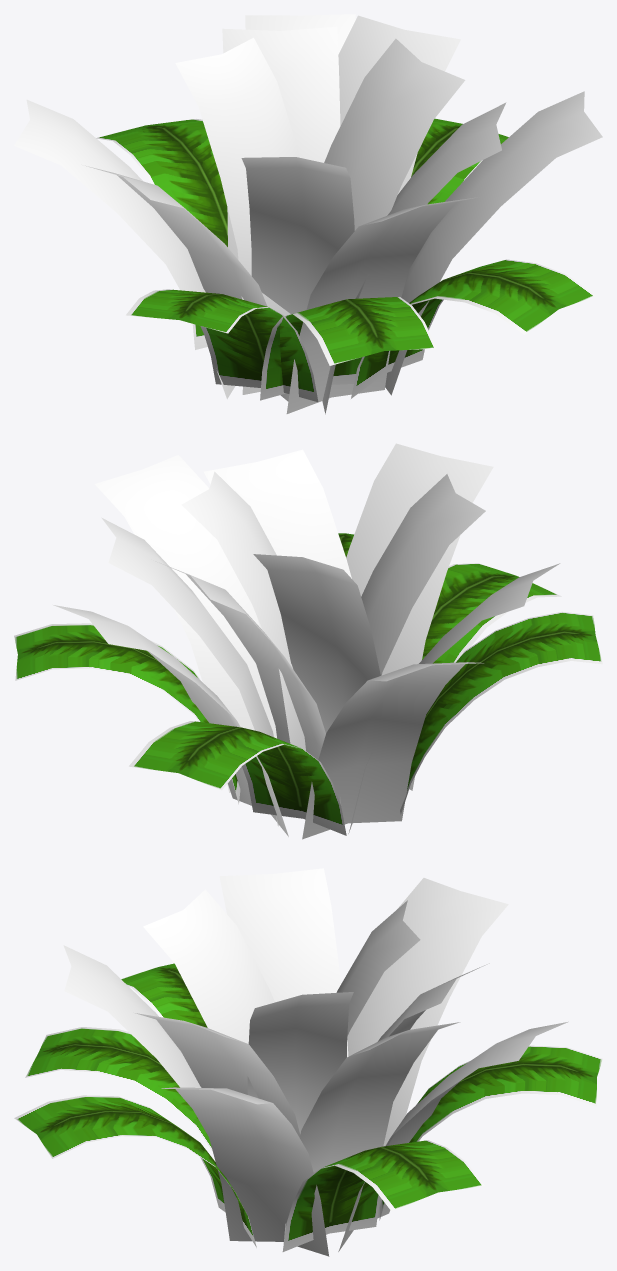
File: sm_env_bigfern.fbx
3 views of the same model, one above another, from view 1: azimuth 30°, elevation 25°; view 2: azimuth 150°, elevation 25°; view 3: azimuth 270°, elevation 25° (orthographic). The views are drawn at different scales.
Visible parts, largest first — view 1: big_fern_leaf16; view 2: big_fern_leaf16; view 3: big_fern_leaf16.
Part boxes in pixels (box(x1,y1,x2,y2)): big_fern_leaf16: box(14, 14, 602, 414); big_fern_leaf16: box(14, 443, 602, 839); big_fern_leaf16: box(14, 868, 602, 1256).
Size of the model in its own units: 155 by 88.78 by 165.
